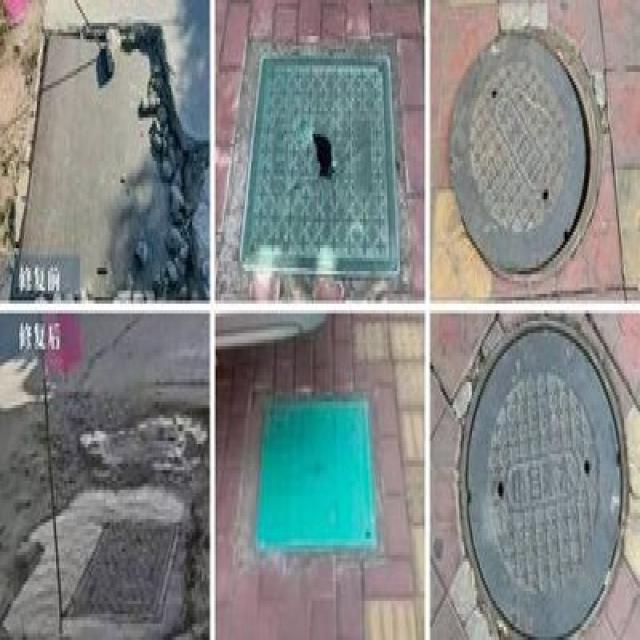manhole: (8, 16, 195, 288), (232, 36, 406, 281), (442, 19, 603, 278)
